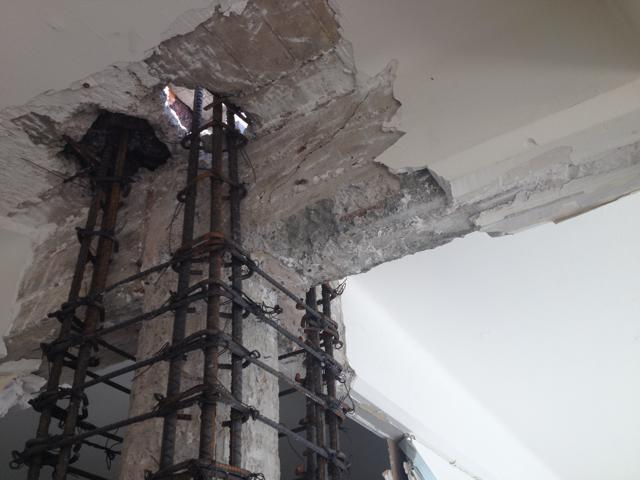exposed_rebar: (31, 86, 204, 469), (216, 105, 349, 468), (36, 112, 139, 443), (175, 95, 235, 461), (301, 282, 341, 454), (307, 450, 340, 479), (54, 442, 72, 479), (29, 450, 46, 478)
spalling: (0, 0, 458, 358), (9, 88, 351, 480)
